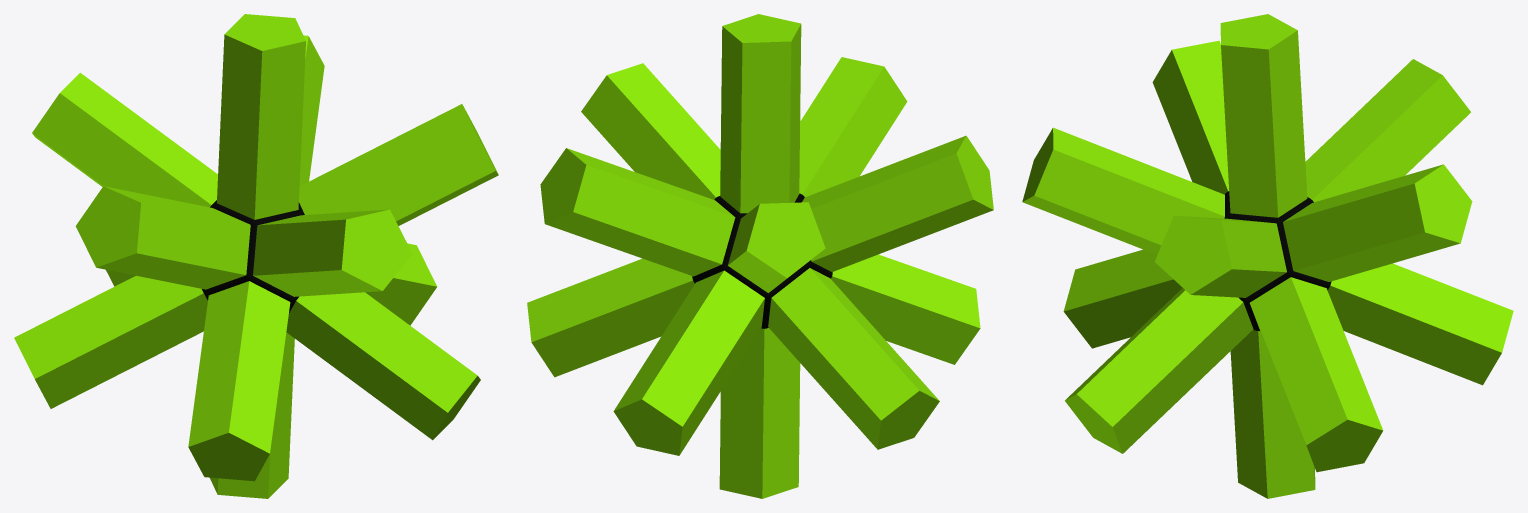
3 renders of one model, left to right at view 1: azimuth 30°, elevation 25°; view 2: azimuth 150°, elevation 25°; view 3: azimuth 270°, elevation 25°, orthographic. The views are drawn at different scales.
Parts seen in each view (by area): view 1: One, Ten, Two, Six, Five, Eight, Nine, Four, Three, Twenty, Seven, Dice; view 2: Six, One, Seven, Eleven, Five, Twenty, Three, Eight, Ten, Four, Nine, Dice; view 3: One, Two, Twenty, Seven, Four, Eleven, Nine, Three, Eight, Five, Ten, Dice.
Part boxes in pixels (x1,y1,x2,y2): One: (217,14,305,219); Ten: (188,281,290,481); Two: (286,292,480,440); Six: (14,275,207,408); Five: (75,186,250,289); Eight: (299,104,498,225); Nine: (32,72,217,207); Four: (253,209,412,296); Three: (210,332,294,498); Twenty: (365,243,437,325); Seven: (299,35,324,185); Dice: (202,200,304,312); Six: (768,268,939,449); One: (720,14,801,213); Seven: (540,148,735,276); Eleven: (613,270,764,455); Five: (802,135,993,271); Twenty: (527,258,694,377); Three: (719,328,800,498); Eight: (581,63,720,199); Ten: (831,254,980,364); Four: (799,57,907,197); Nine: (728,202,825,292); Dice: (692,193,832,328); One: (1220,14,1307,217); Two: (1065,288,1253,453); Twenty: (1249,277,1383,472); Seven: (1283,164,1472,281); Four: (1022,127,1224,254); Eleven: (1327,263,1513,385); Nine: (1305,59,1470,202); Three: (1230,329,1315,498); Eight: (1155,216,1286,297); Five: (1152,40,1229,194); Ten: (1063,249,1182,348); Dice: (1224,191,1331,330).
Size of the model in its own units: 29.73 by 32.18 by 31.46.
